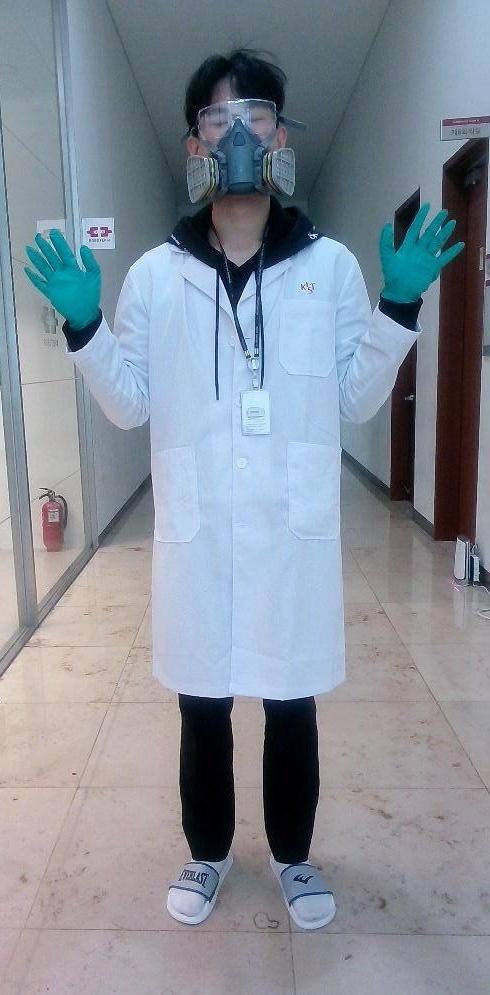lab_coat: (135, 251, 358, 682)
